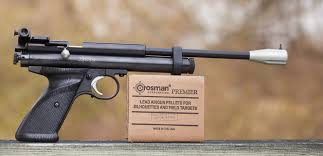gun: (11, 26, 289, 146)
